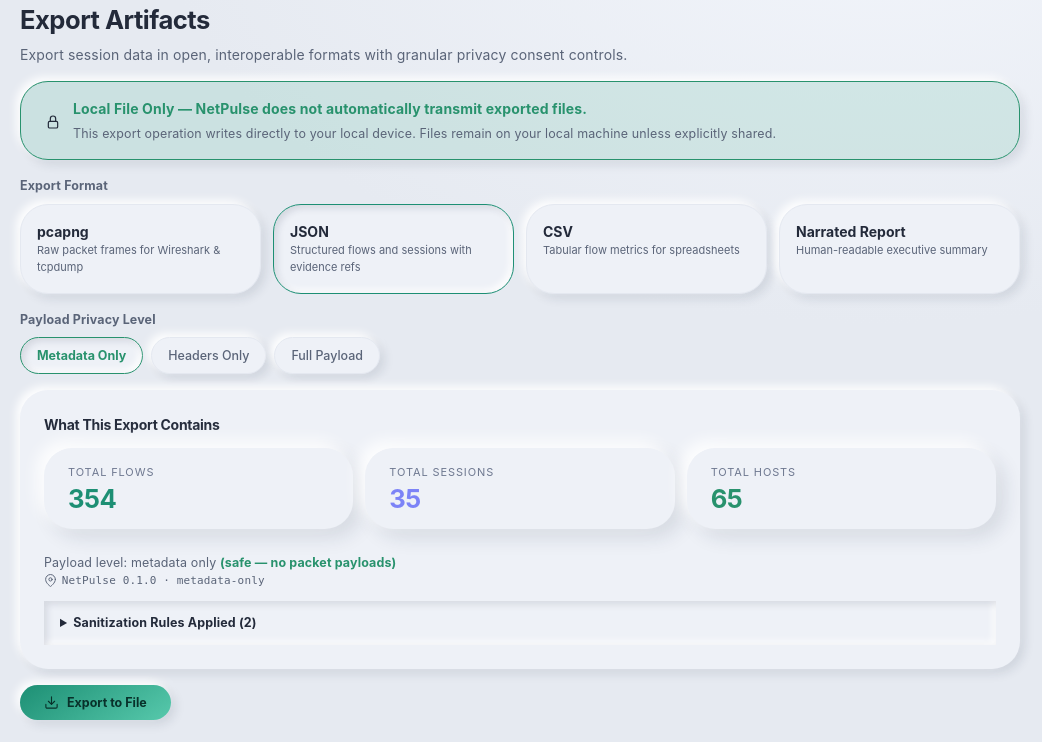
Test: Export Screen & useExportController › updates preview provenance and level-specific sanitization rules when level chip is clicked
This screenshot has width=1042, height=742.
expect the text "NetPulse 0.1.0 · metadata-only" is shown: met, box [62,572,265,589]
Click the radio button labelled "Full Payload": (327, 355) [274,337,380,374]
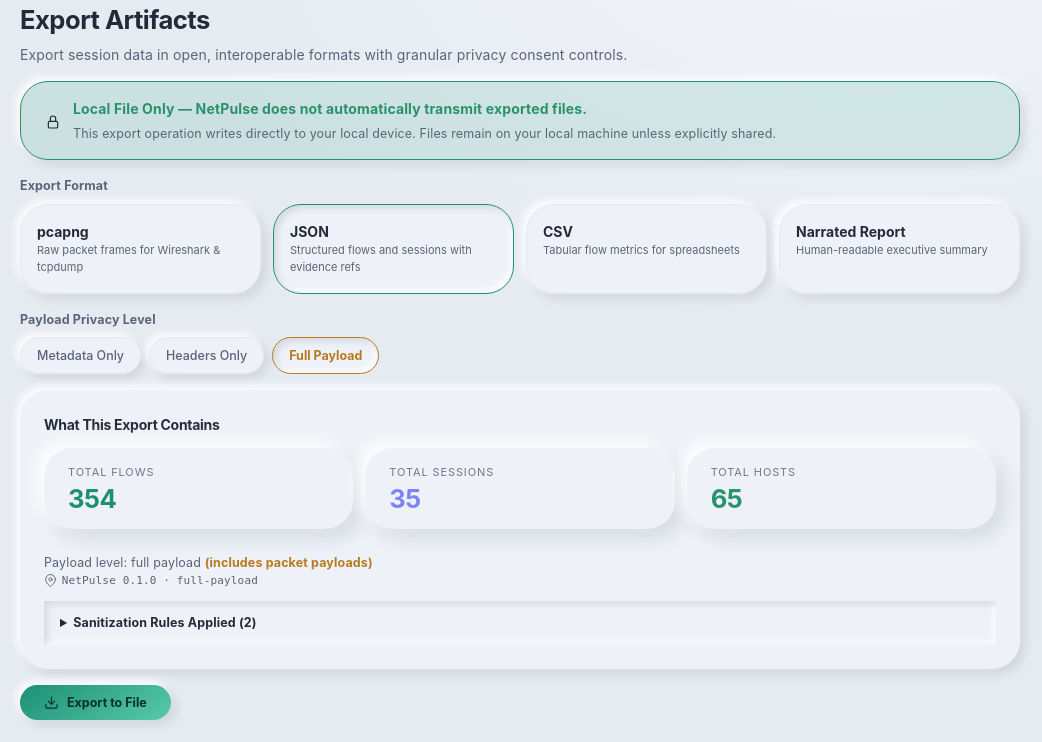
expect the text "NetPulse 0.1.0 · full-payload" is shown: met, box [62,572,258,589]
